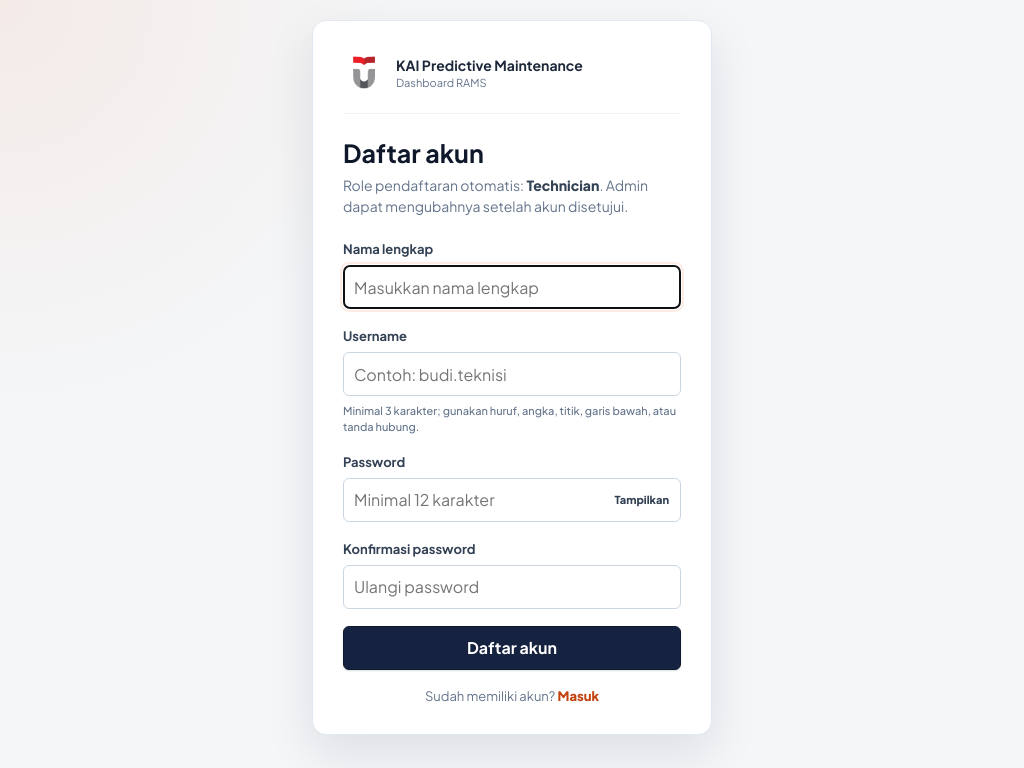
Test: RegisterForm › submits to the local registration BFF and shows pending approval
Type "Budi Teknisi" into the field labelled "Nama lengkap" at (512, 287), box [343, 265, 681, 309]
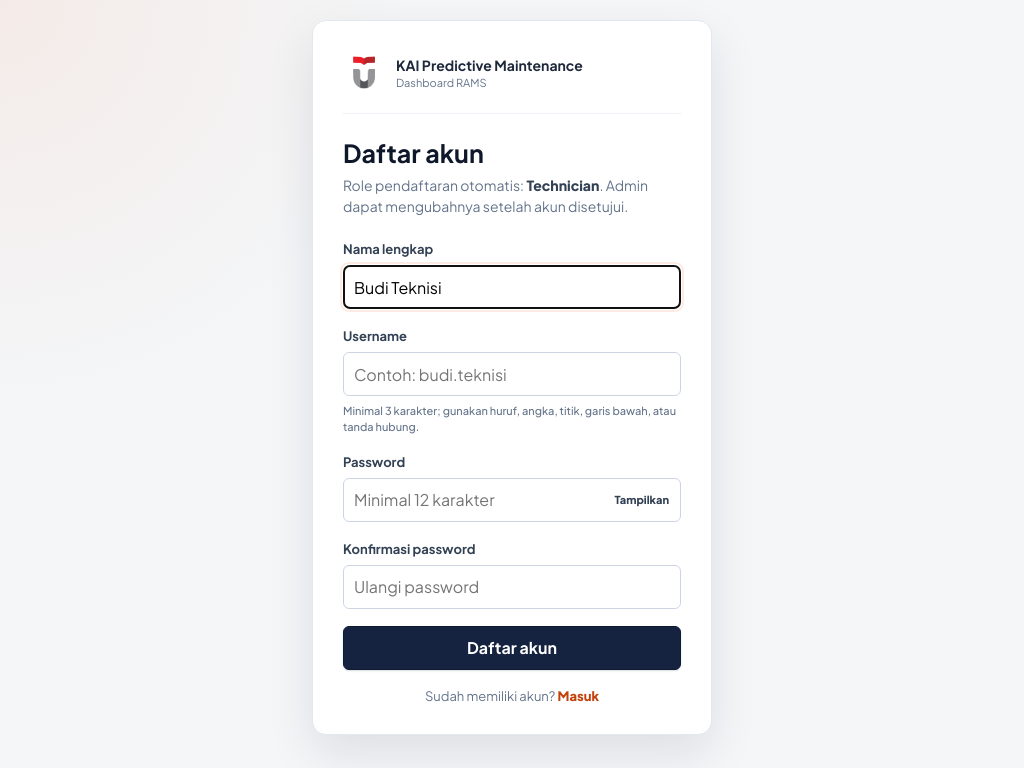
Type "Budi.Teknisi" into the field labelled "Username" at (512, 374), box [343, 352, 681, 396]
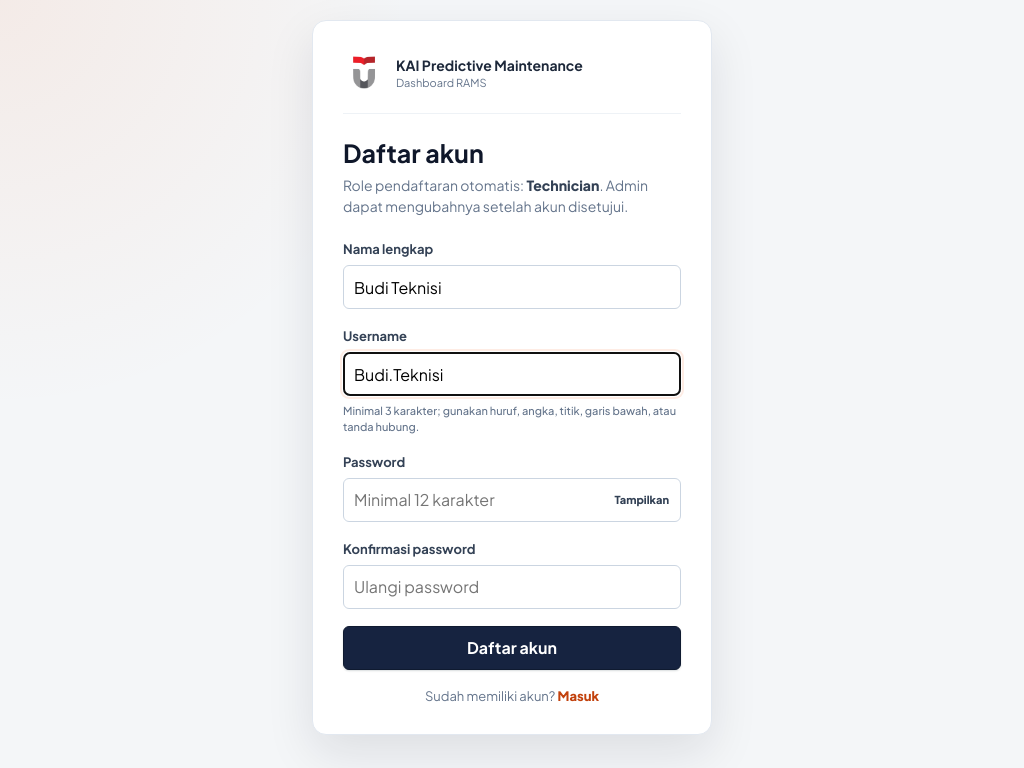
Type "password-kuat-123" into the password field labelled "Password" at (512, 500), box [343, 478, 681, 522]
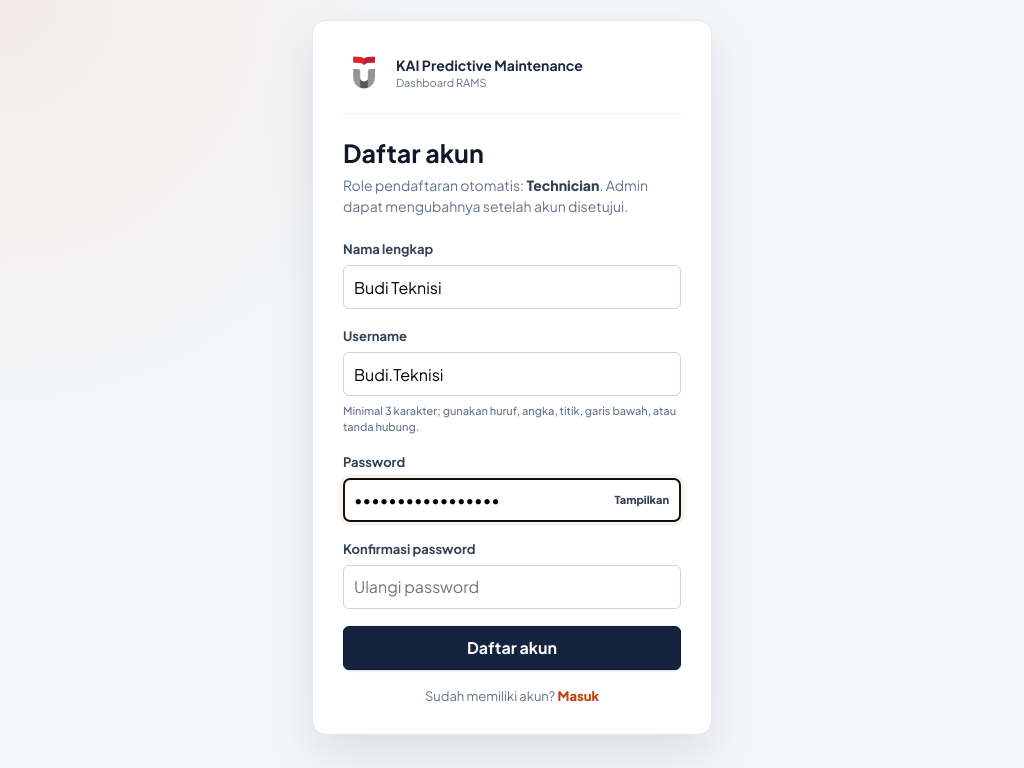
Type "password-kuat-123" into the password field labelled "Konfirmasi password" at (512, 587), box [343, 565, 681, 609]
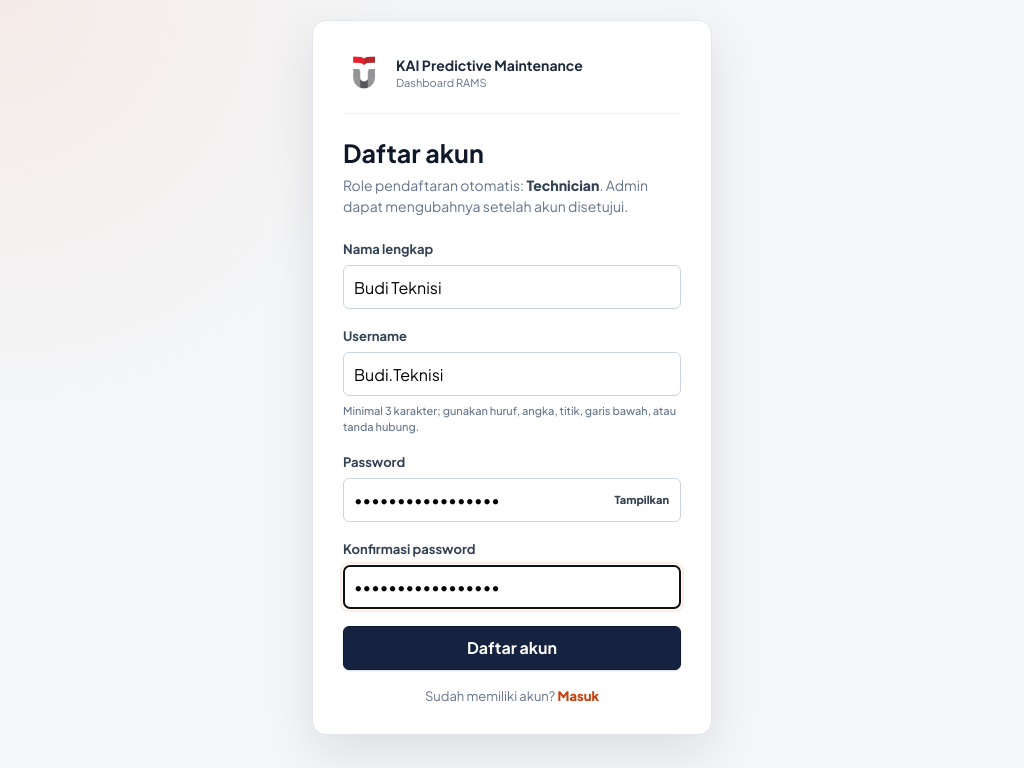
Click the button "Daftar akun" at (512, 648), box [343, 626, 681, 670]
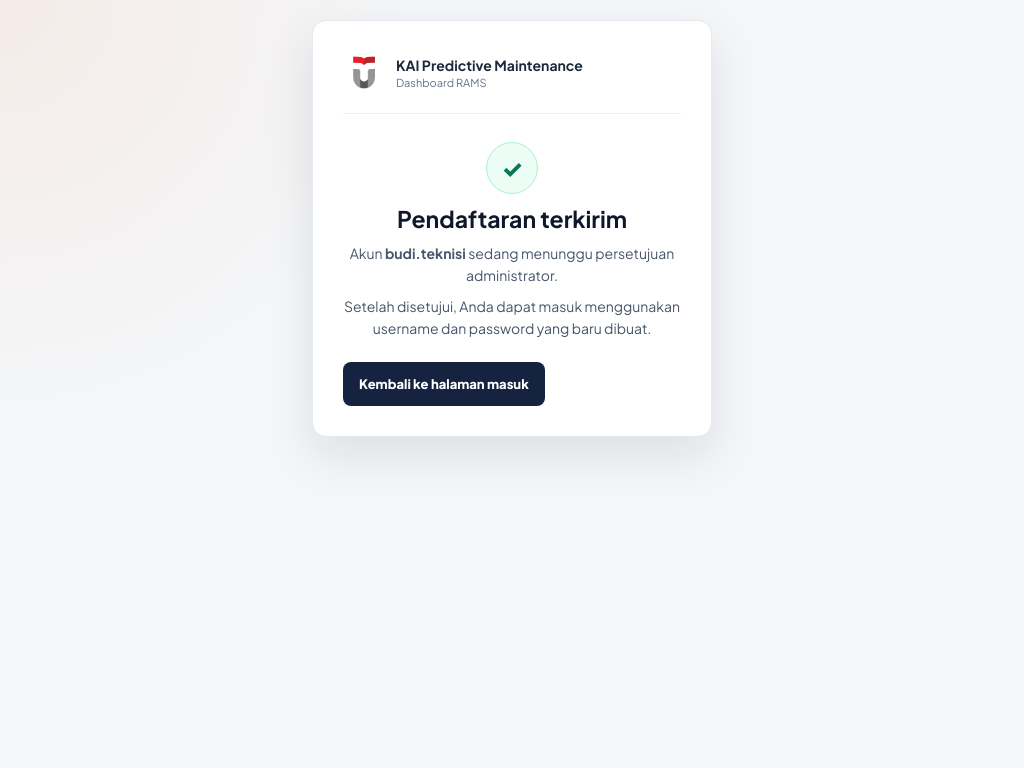
Now the message shows "menunggu persetujuan administrator", box [466, 244, 674, 284]
